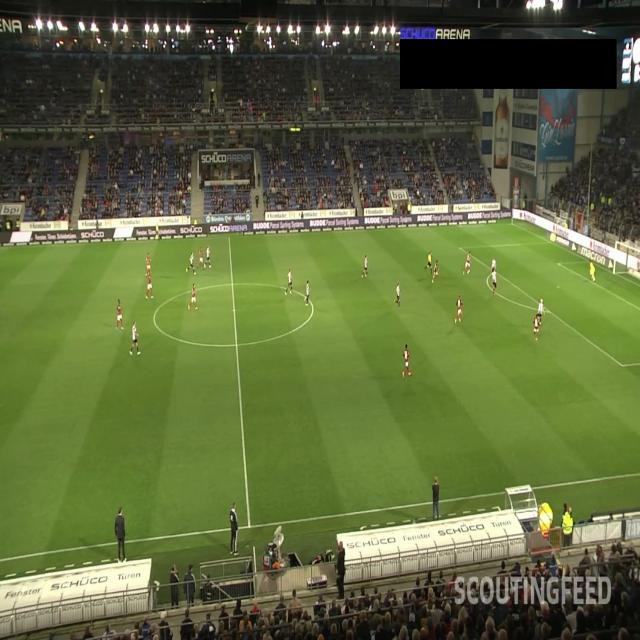ball: (466, 270, 469, 274)
goalkeeper: (588, 260, 595, 283)
player: (129, 320, 141, 356), (402, 343, 412, 378), (115, 299, 124, 331), (188, 283, 198, 310), (186, 252, 197, 275), (455, 294, 463, 324), (537, 297, 545, 325), (285, 268, 293, 295), (393, 282, 401, 308), (197, 246, 205, 271), (145, 278, 154, 300), (533, 313, 540, 341), (204, 244, 212, 268), (145, 252, 152, 277), (464, 251, 471, 275), (491, 268, 497, 296), (432, 260, 438, 283), (362, 255, 368, 278), (305, 280, 310, 304), (491, 257, 496, 280)
referee: (425, 251, 432, 271), (154, 222, 160, 241)
